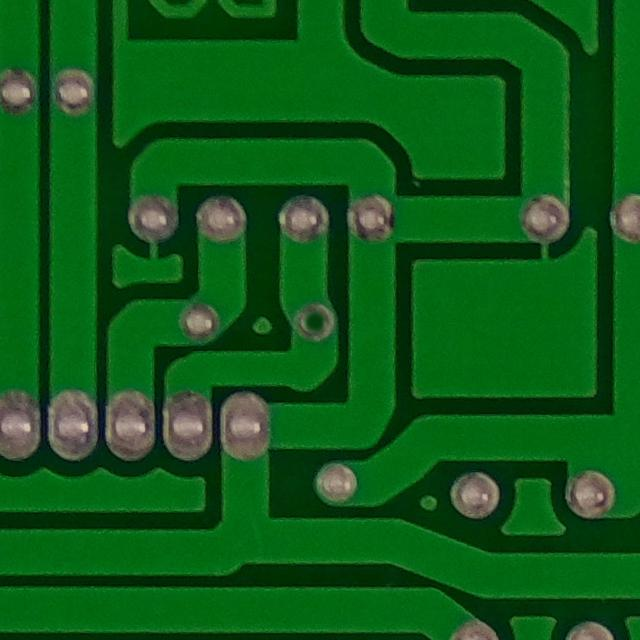missing_hole: (288, 289, 353, 352)
